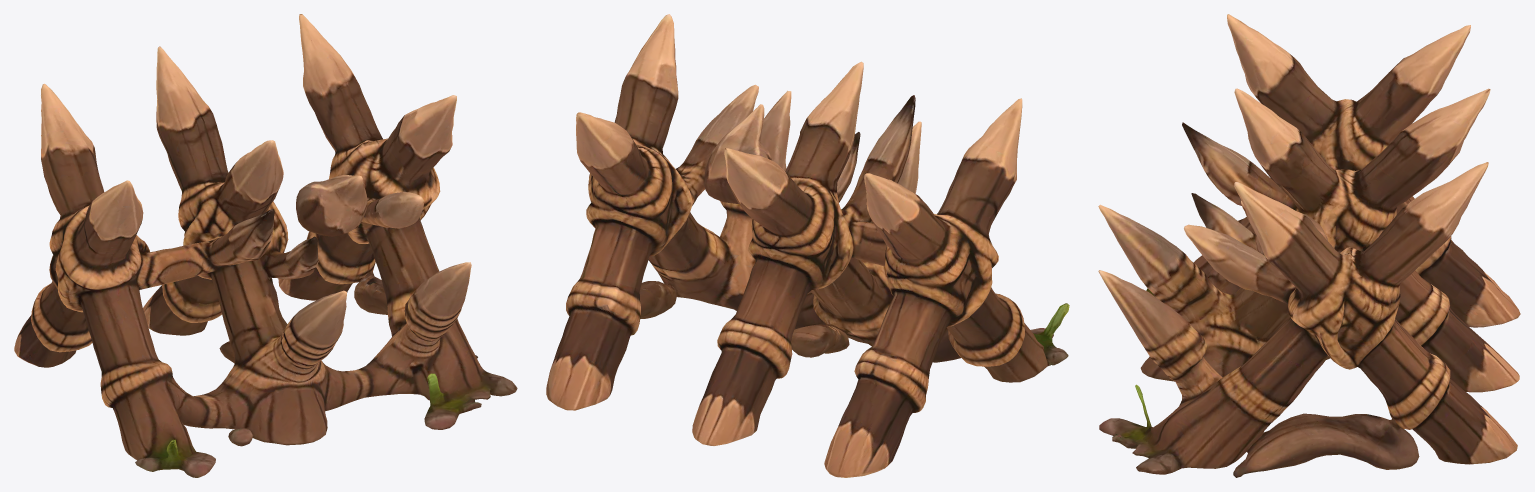
The model's file is ashen_spiked_stakes.glb.
The picture shows the model from 3 angles, left to right: view 1: azimuth 30°, elevation 25°; view 2: azimuth 150°, elevation 25°; view 3: azimuth 270°, elevation 25°; orthographic projection. The views are drawn at different scales.
Size of the model in its own units: 1.91 by 1.32 by 1.76.
Materials: 1 (1 with a texture image).
